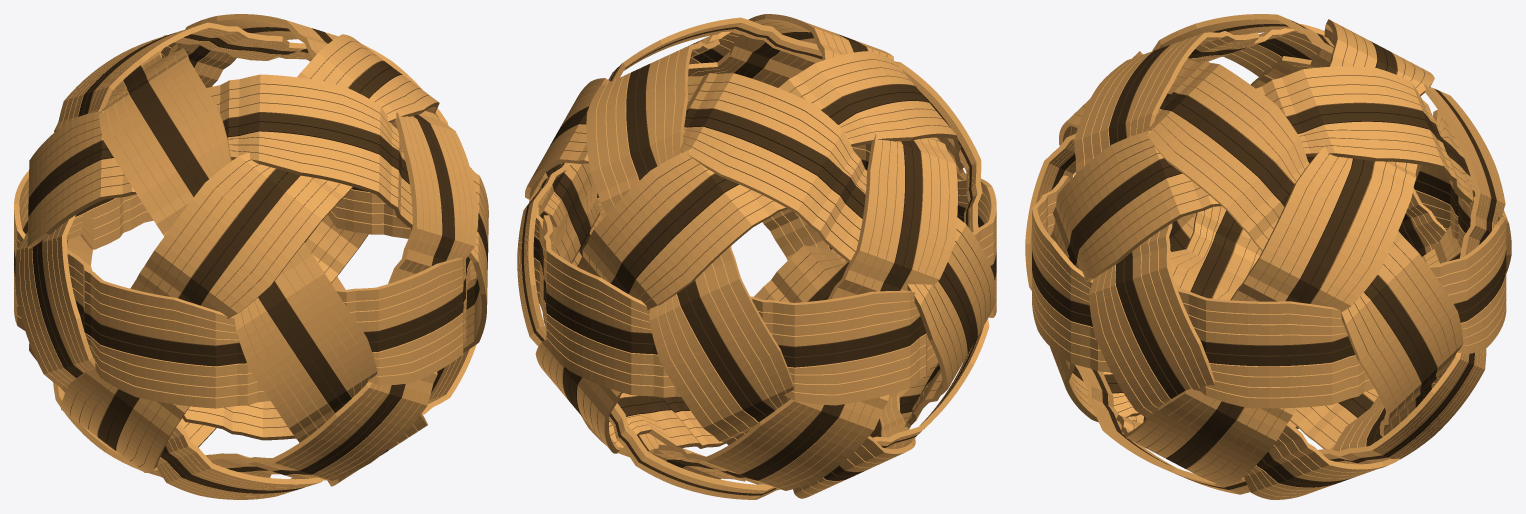
Rendered from balls.fbx.
3 views of the same model, side by side, from view 1: azimuth 30°, elevation 25°; view 2: azimuth 150°, elevation 25°; view 3: azimuth 270°, elevation 25° (orthographic).
Parts seen in each view (by area): view 1: Ball; view 2: Ball; view 3: Ball.
Part boxes in pixels (x1,y1,x2,y2): Ball: [14, 14, 488, 499]; Ball: [517, 14, 996, 499]; Ball: [1025, 14, 1511, 499].
Bounding box in the file's own units: 12.92 × 12.74 × 13.24.
